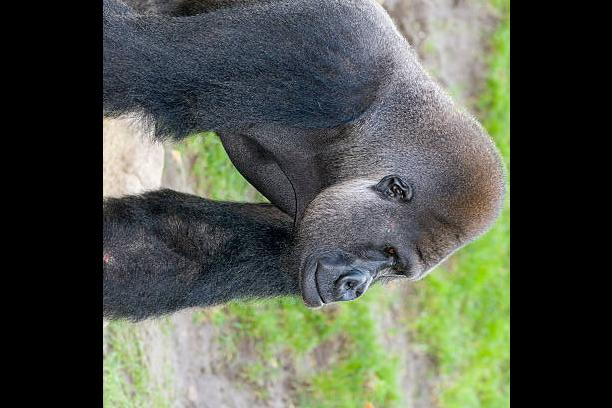gorille_Autres: (102, 0, 509, 367)
